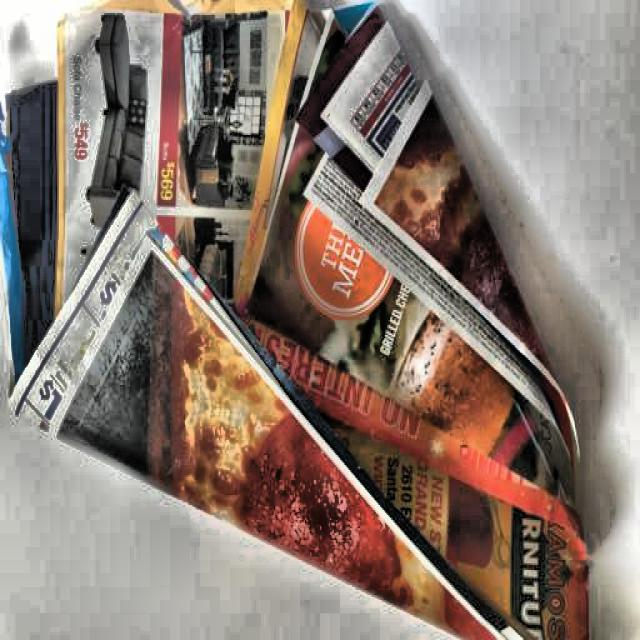paper: (0, 0, 591, 640)
